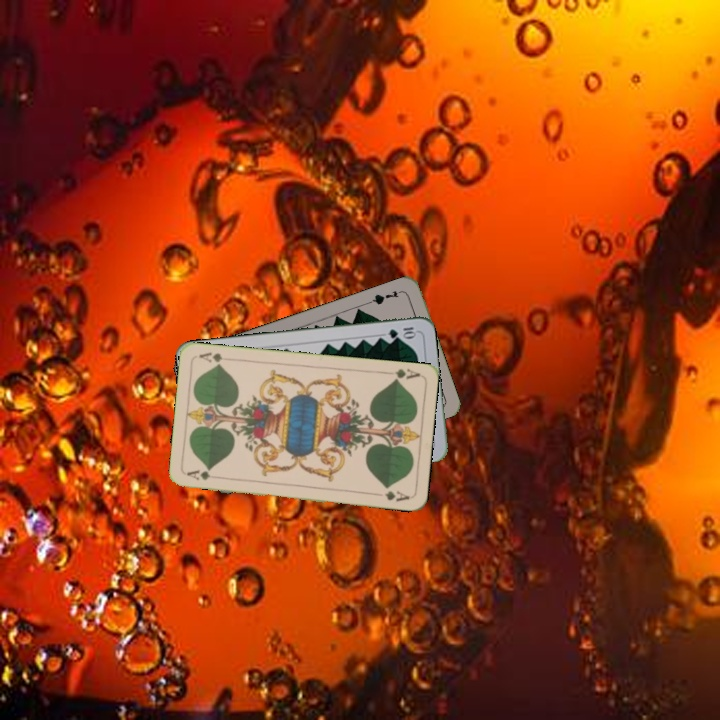G10: (384, 323, 419, 341)
G7: (366, 286, 405, 307)
GA: (382, 364, 422, 384), (183, 467, 224, 482)
